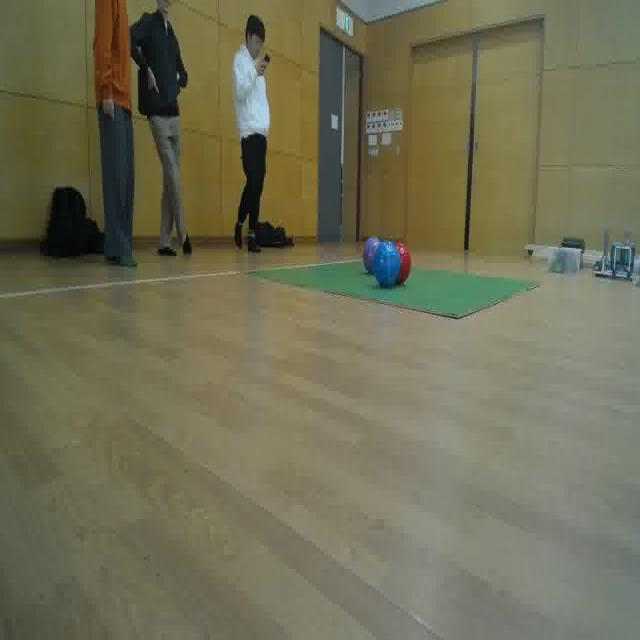blue_ball: (373, 240, 400, 288)
purple_ball: (362, 236, 379, 274)
red_ball: (392, 240, 412, 283)
